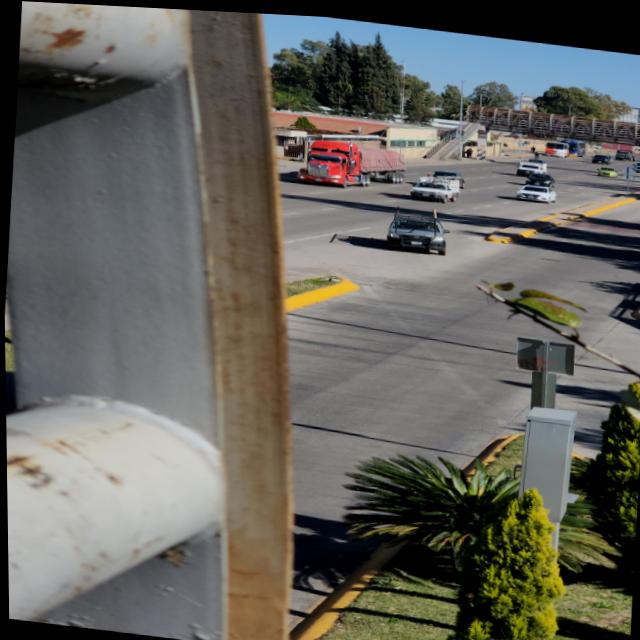Auto: (384, 206, 447, 252), (410, 171, 454, 199), (514, 177, 556, 200), (590, 146, 612, 159), (633, 155, 640, 167)
